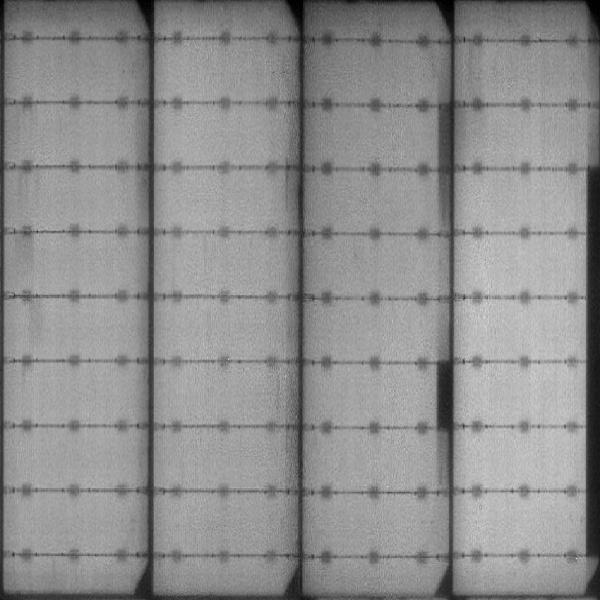black_border: (579, 159, 600, 563), (435, 94, 457, 235), (433, 358, 458, 436)
